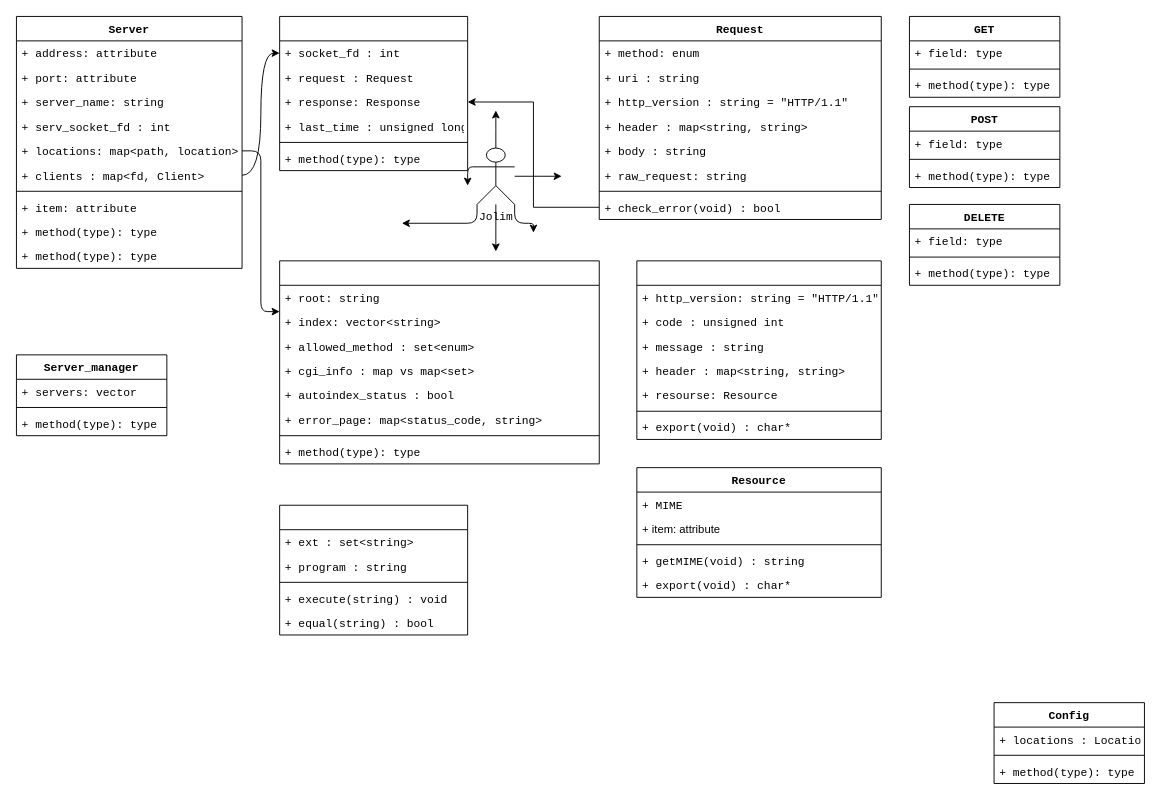
Some shapes in this 1164 by 803 pixel diagram are drawn without their labels. Here are the shapes that lost their labels. From the top down, the box of each, then its label:
(279, 16, 468, 171): Client
(279, 260, 599, 464): Location
(636, 260, 881, 439): Response
(279, 504, 468, 635): cgi
